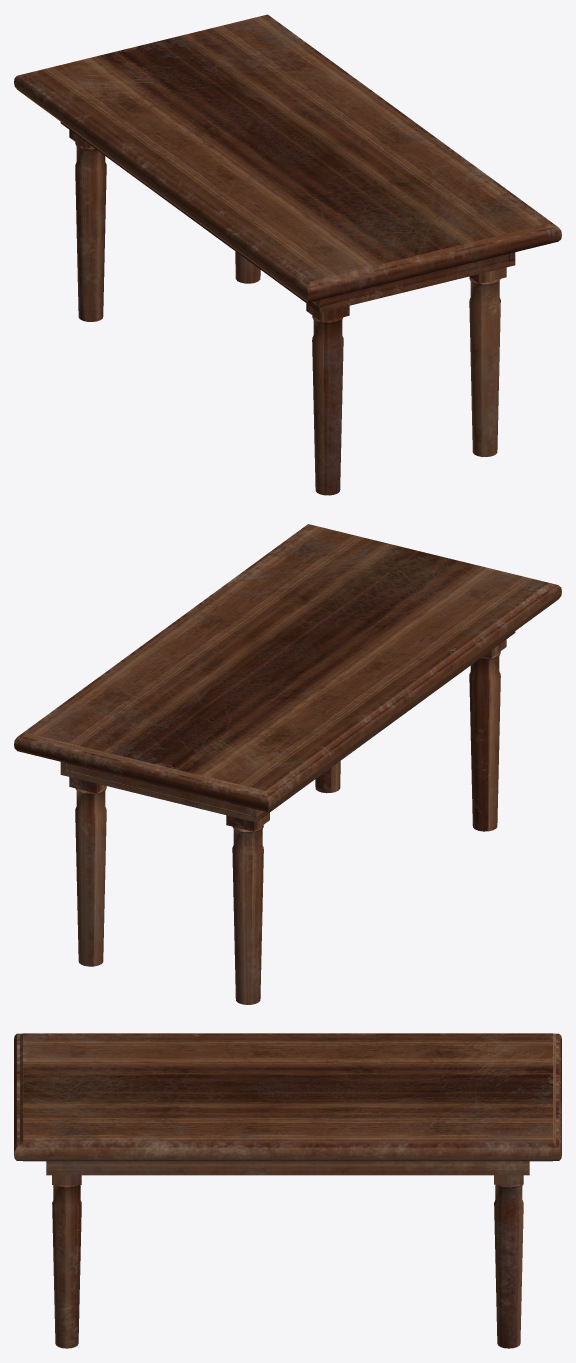
File: meeting-table.glb
3 views of the same model, one above another, from view 1: azimuth 30°, elevation 25°; view 2: azimuth 150°, elevation 25°; view 3: azimuth 270°, elevation 25° (orthographic). The views are drawn at different scales.
Visible parts, largest first — view 1: MeetingTable; view 2: MeetingTable; view 3: MeetingTable.
Boxes of the visible parts, bbox=[...] form: MeetingTable: bbox=[14, 14, 561, 495]; MeetingTable: bbox=[14, 524, 561, 1004]; MeetingTable: bbox=[14, 1033, 561, 1348].
Bounding box in the file's own units: 0.924 × 0.8196 × 1.85.
Materials: 1 (1 with a texture image).
